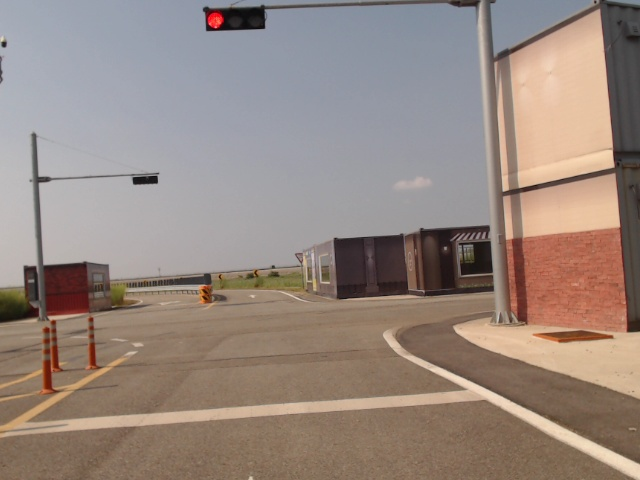red_3: (206, 9, 266, 30)
